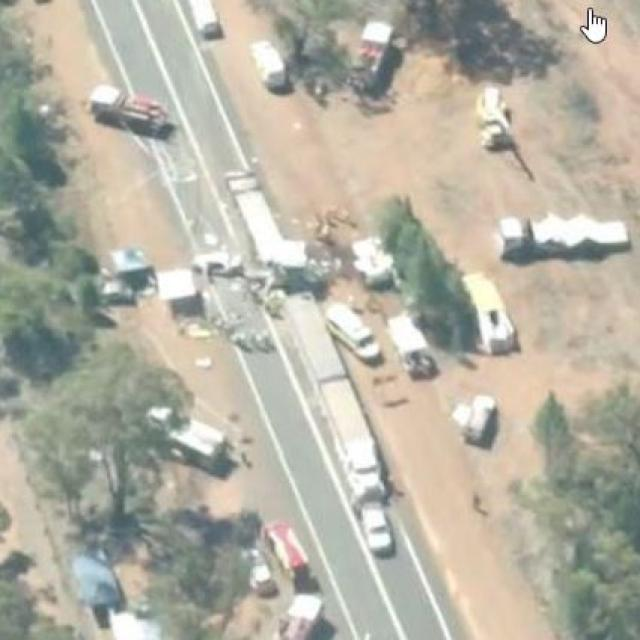traffic_incident: (182, 150, 357, 362)
